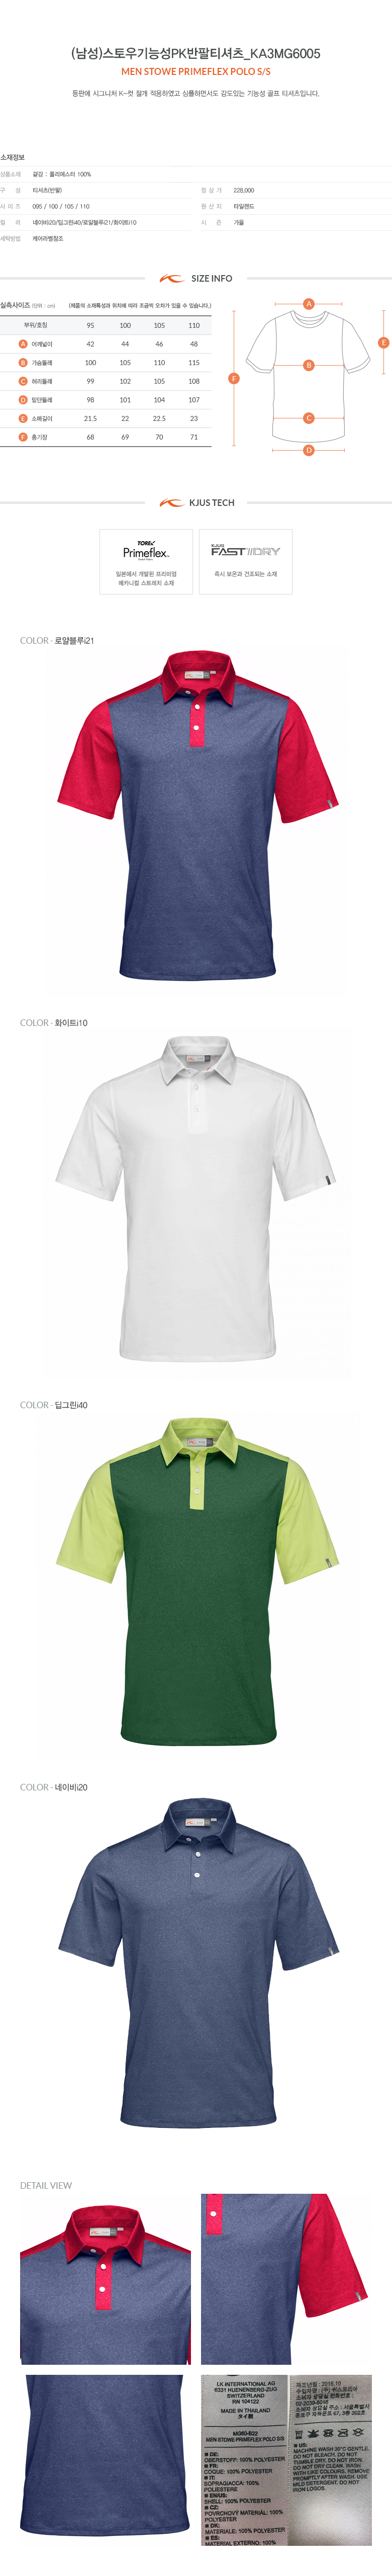do_not_bleach: (307, 2428, 320, 2440)
do_not_dry_clean: (353, 2426, 364, 2438)
do_not_iron: (336, 2426, 351, 2438)
